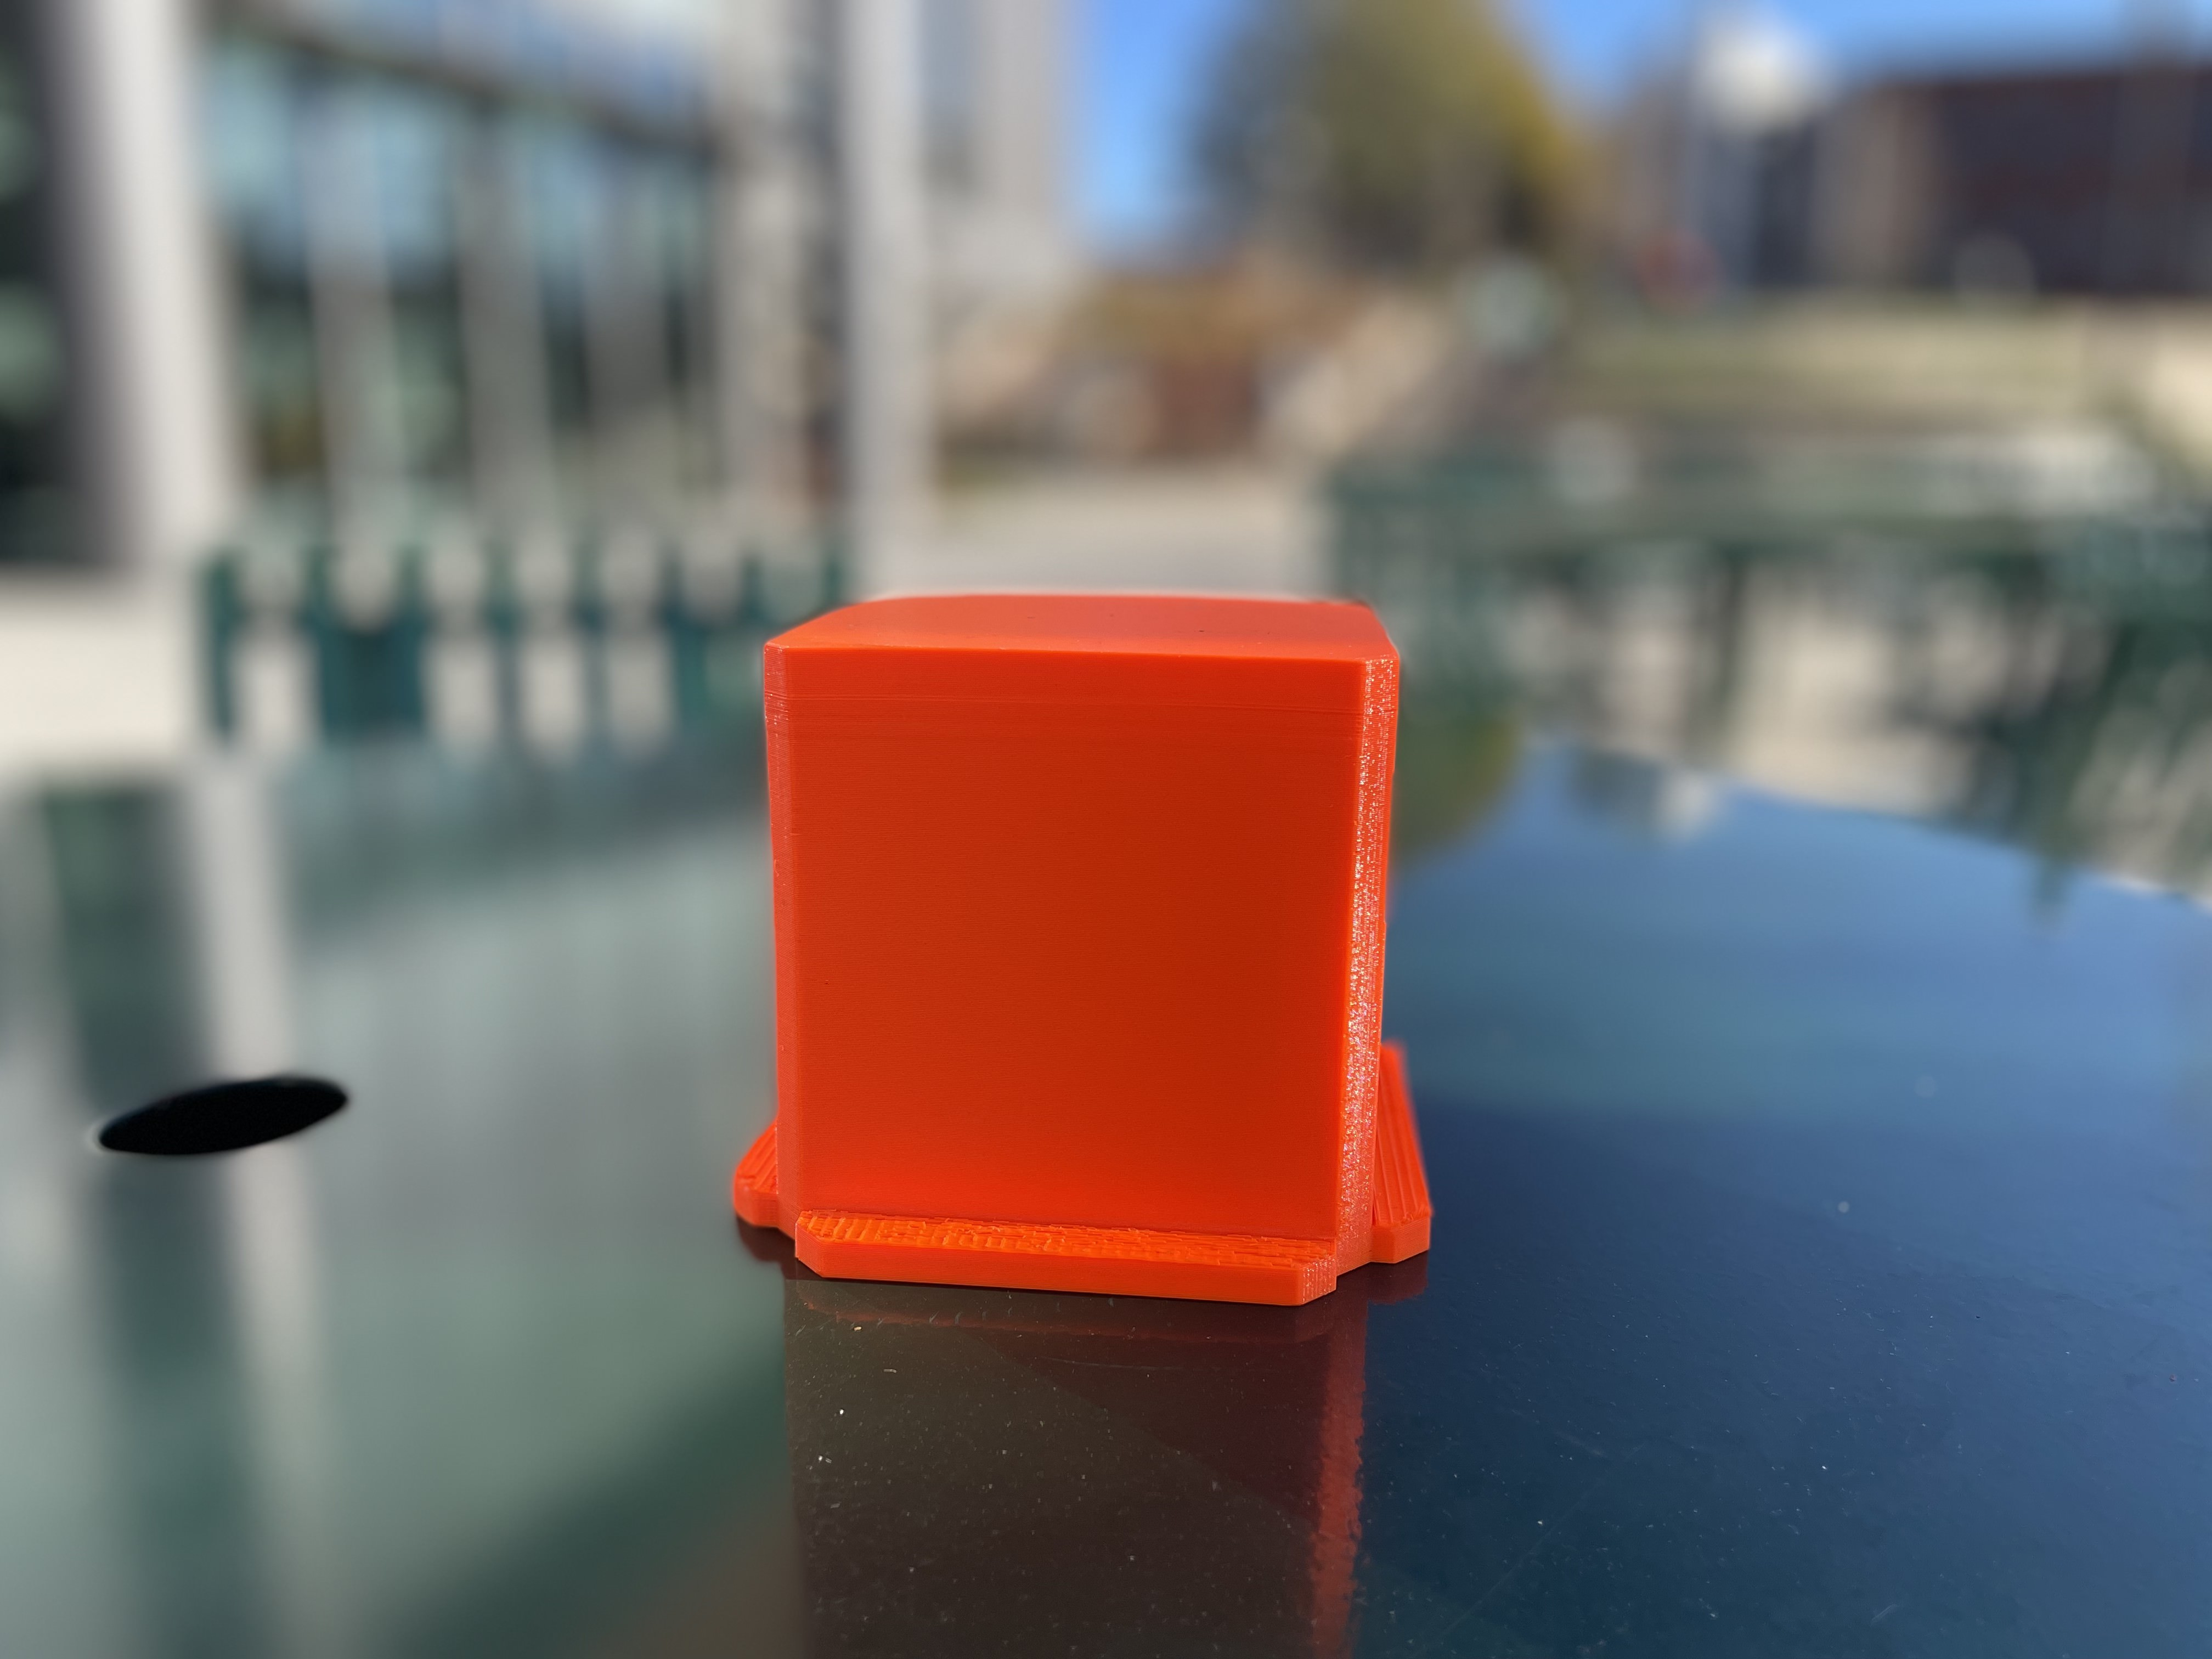payload1: (719, 558, 1480, 1338)
